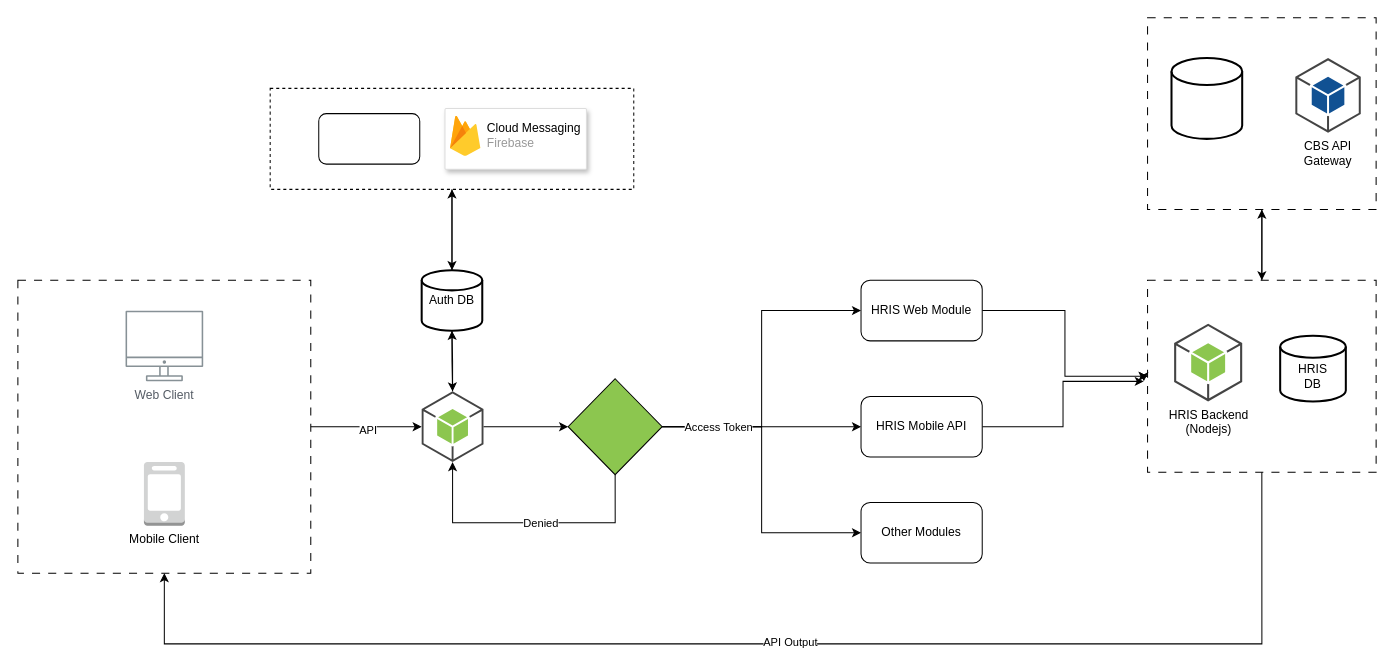
The diagram is 1394 pixels wide and 670 high, and some of its shapes have lost their labels. Each missing label, with the centre of its shape:
"Access Control Check" goes at point 614,426.
"Auth Engine" goes at point 452,426.
"Notification Engine" goes at point 369,138.
"Slave DB CBS" goes at point 1206,98.
